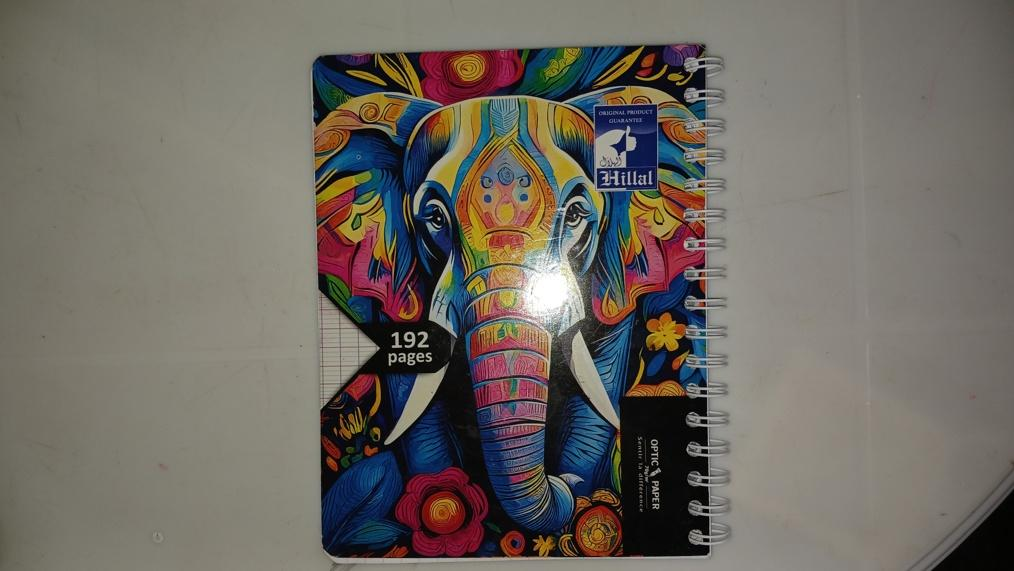notebook: (318, 39, 733, 555)
